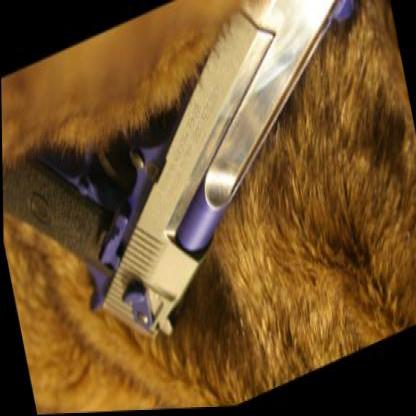pistol: (0, 0, 410, 396)
